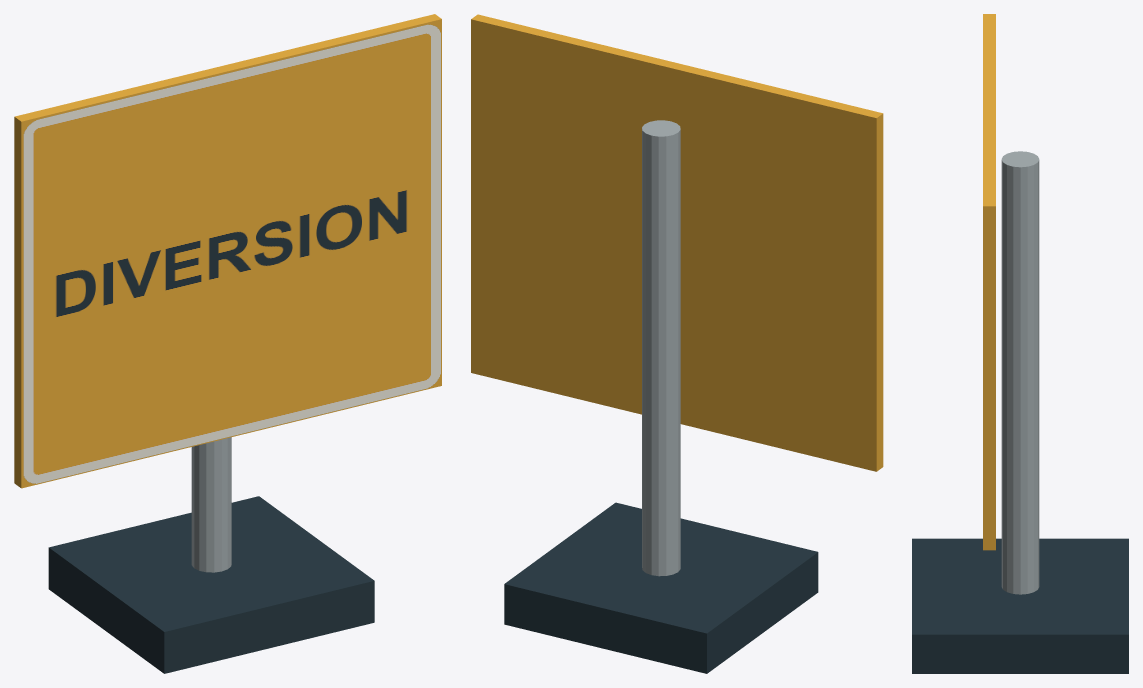
Rendered from scendance-plan-diversion.glb.
The picture shows the model from 3 angles, left to right: view 1: azimuth 30°, elevation 25°; view 2: azimuth 150°, elevation 25°; view 3: azimuth 270°, elevation 25°; orthographic projection. The views are drawn at different scales.
Size of the model in its own units: 0.84 by 1.05 by 0.4.
Materials: 4 (1 with a texture image).
